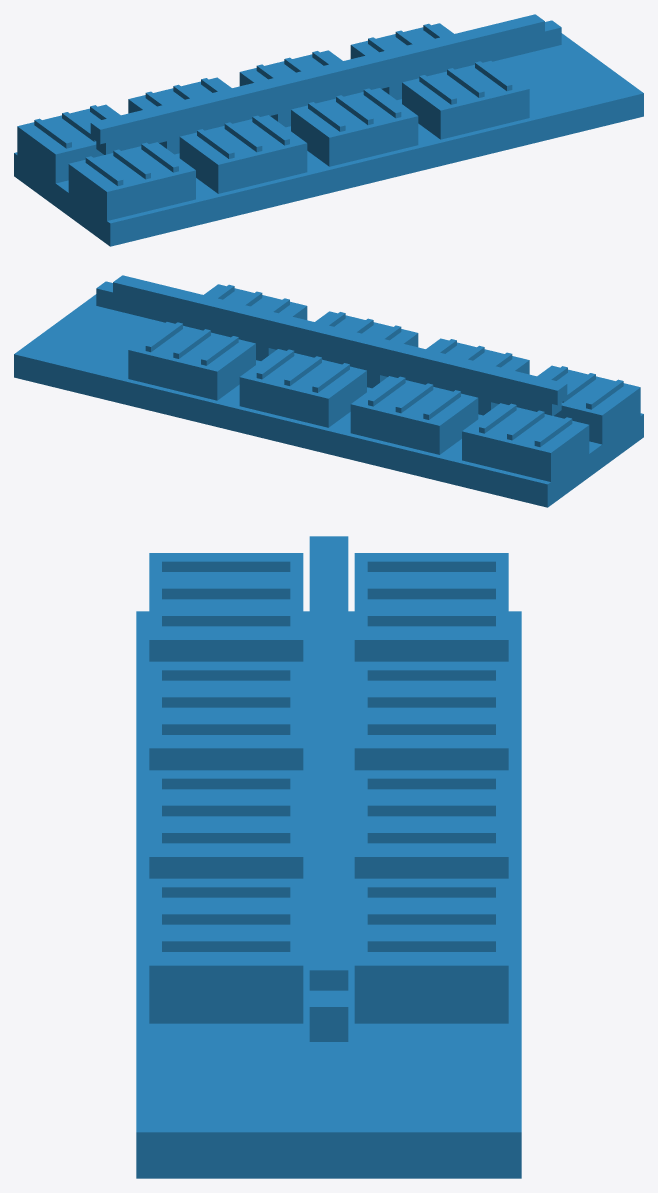
Rendered from 17_battery_pack_busbars.glb.
The picture shows the model from 3 angles, top to bottom: view 1: azimuth 30°, elevation 25°; view 2: azimuth 150°, elevation 25°; view 3: azimuth 270°, elevation 25°; orthographic projection. The views are drawn at different scales.
Visible parts, largest first — view 1: 17_battery_pack_busbars; view 2: 17_battery_pack_busbars; view 3: 17_battery_pack_busbars.
Part boxes in pixels (x1,y1,x2,y2): 17_battery_pack_busbars: (14, 14, 643, 246); 17_battery_pack_busbars: (14, 275, 643, 507); 17_battery_pack_busbars: (136, 536, 521, 1178).
Bounding box in the file's own units: 96 × 13.25 × 30.
